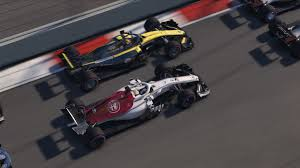f1_car: (48, 61, 215, 158), (51, 13, 203, 99)
